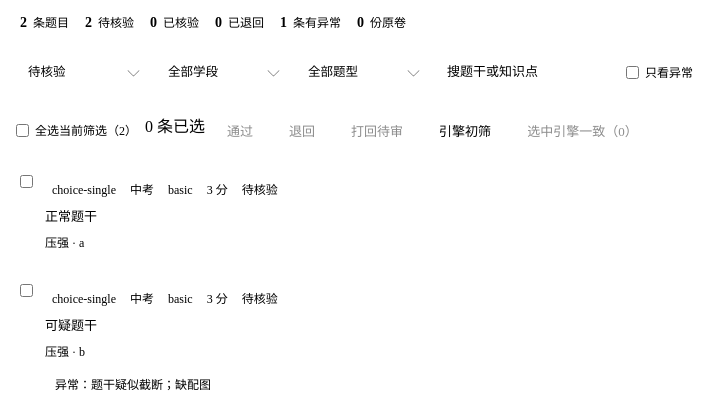
Test: AdminContentTab › surfaces anomaly reasons on the card
The width and height of the screenshot is (710, 408).
Check: the text "正常题干" is shown, box [45,209,97,224]
Click the checkbox labelled "只看异常".
click(632, 72)  # box [626,66,639,78]
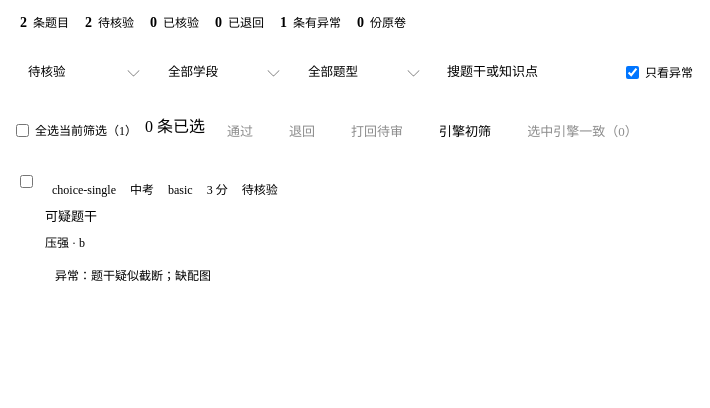
Check: the text "异常：题干疑似截断；缺配图" is shown, box [55,269,211,283]
Check: the text "正常题干" is gone
